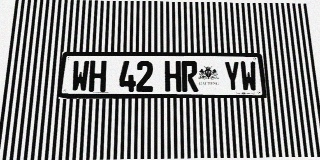2: (136, 61, 153, 92)
4: (119, 61, 136, 92)
H: (88, 60, 107, 92), (165, 61, 181, 92)
R: (181, 61, 198, 92)
W: (71, 60, 90, 92), (240, 61, 258, 92)
Y: (223, 61, 241, 92)
